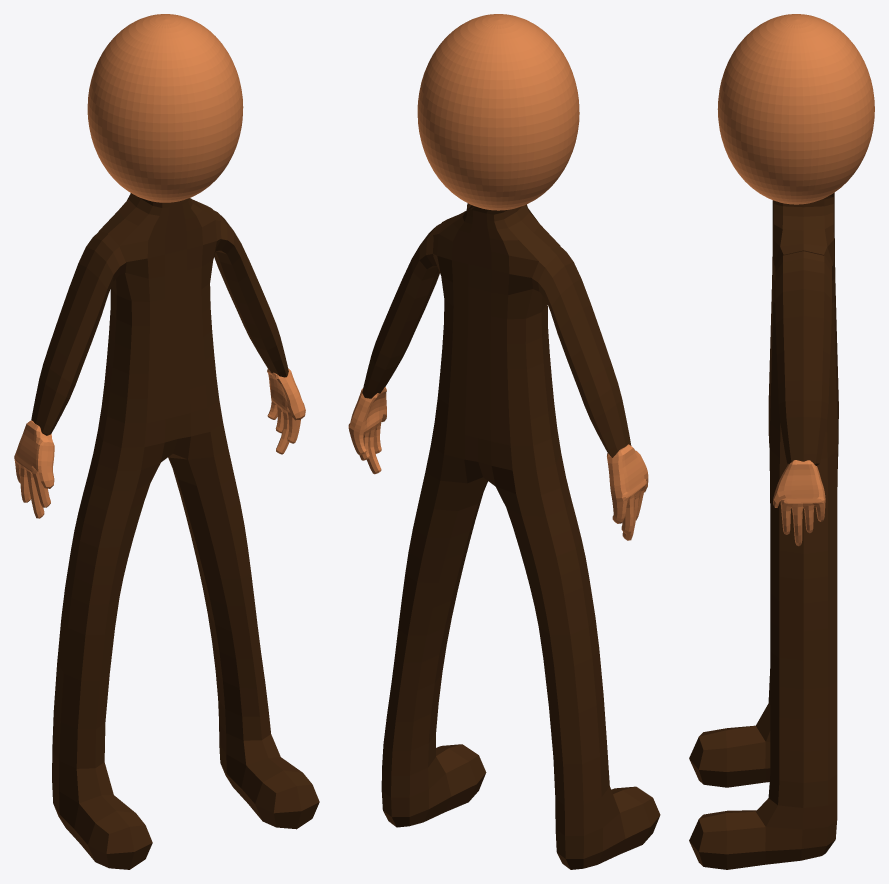
3 views of the same model, side by side, from view 1: azimuth 30°, elevation 25°; view 2: azimuth 150°, elevation 25°; view 3: azimuth 270°, elevation 25° (orthographic). The views are drawn at different scales.
Visible parts, largest first — view 1: Cube; view 2: Cube; view 3: Cube.
Boxes of the visible parts, x1=… form: Cube: x1=14, y1=14, x2=319, y2=869; Cube: x1=348, y1=14, x2=660, y2=869; Cube: x1=689, y1=14, x2=874, y2=869.
Bounding box in the file's own units: 635 × 1798 × 375.
